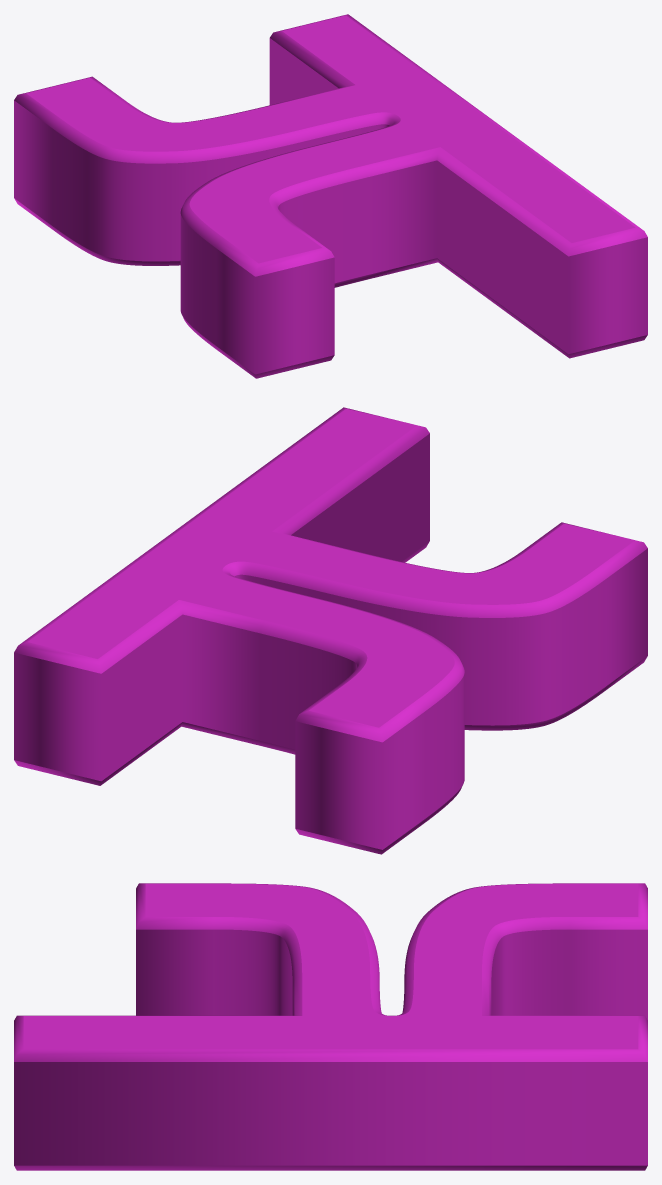
The model's file is Letter_k_CoolFont.fbx.
3 renders of one model, top to bottom at view 1: azimuth 30°, elevation 25°; view 2: azimuth 150°, elevation 25°; view 3: azimuth 270°, elevation 25°, orthographic. The views are drawn at different scales.
Visible parts, largest first — view 1: Letter_k; view 2: Letter_k; view 3: Letter_k.
Part boxes in pixels (x1,y1,x2,y2): Letter_k: (14, 14, 647, 378); Letter_k: (14, 407, 647, 854); Letter_k: (14, 883, 647, 1170).
Size of the model in its own units: 0.4306 by 0.14 by 0.6649.
